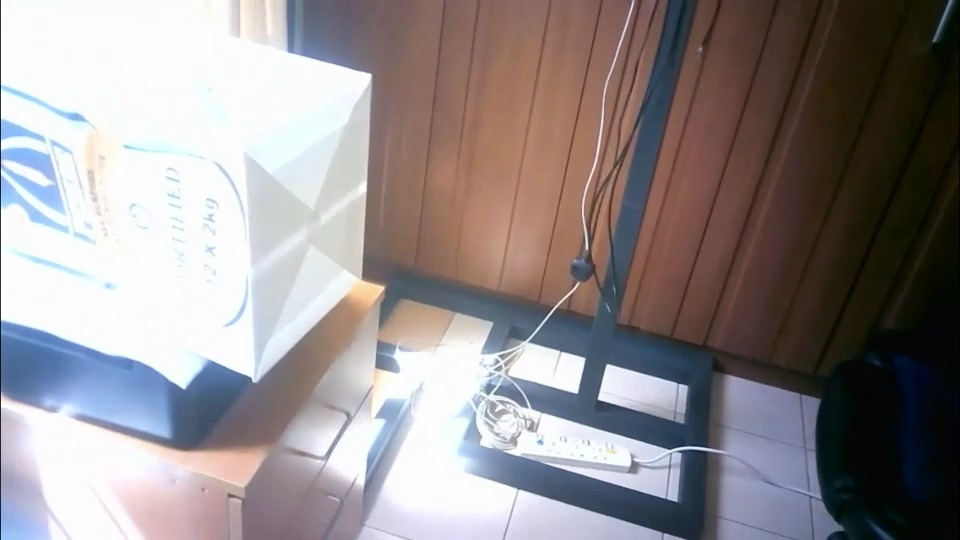wheat_flour_blue_label: (6, 34, 372, 381)
